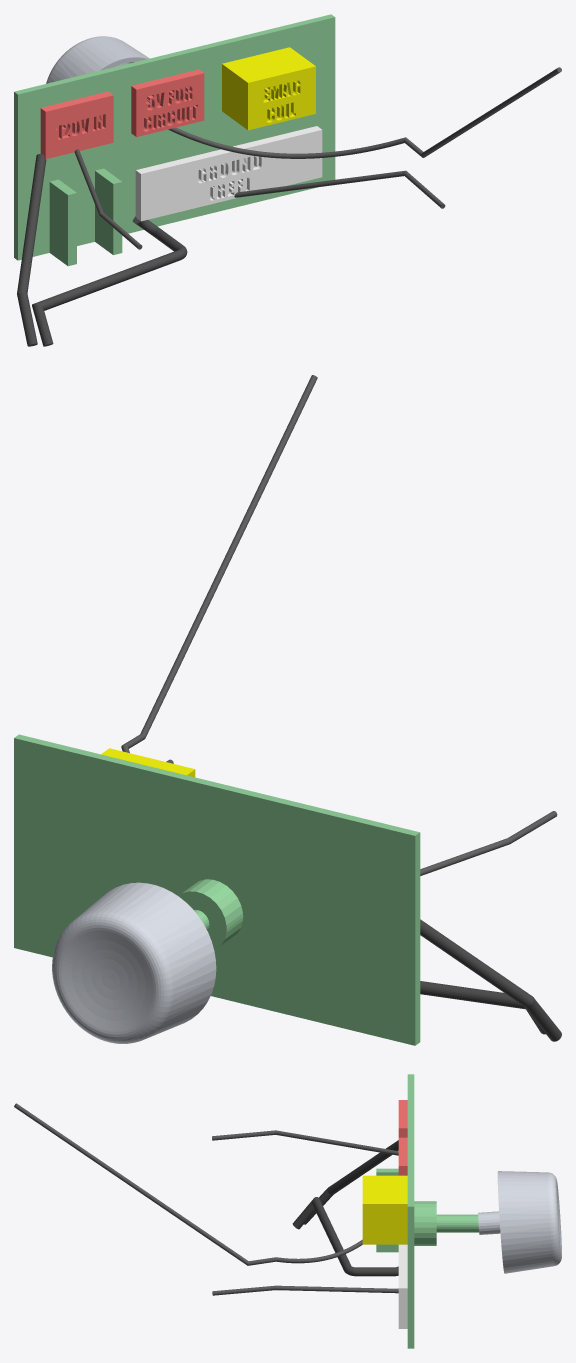
The model's file is Circuit_with_Wires(Final).fbx.
3 renders of one model, top to bottom at view 1: azimuth 30°, elevation 25°; view 2: azimuth 150°, elevation 25°; view 3: azimuth 270°, elevation 25°, orthographic. The views are drawn at different scales.
Parts seen in each view (by area): view 1: Shape_IndexedFaceSet.004, Shape_IndexedFaceSet.003, Shape_IndexedFaceSet, Shape_IndexedFaceSet.001, Shape_IndexedFaceSet.002, Shape_IndexedFaceSet.010, Shape_IndexedFaceSet.005, Shape_IndexedFaceSet.007, Shape_IndexedFaceSet.009, Shape_IndexedFaceSet.008, Shape_IndexedFaceSet.006; view 2: Shape_IndexedFaceSet.004, Shape_IndexedFaceSet.005, Shape_IndexedFaceSet.007, Shape_IndexedFaceSet.009, Shape_IndexedFaceSet.010, Shape_IndexedFaceSet.006, Shape_IndexedFaceSet; view 3: Shape_IndexedFaceSet.005, Shape_IndexedFaceSet.004, Shape_IndexedFaceSet, Shape_IndexedFaceSet.007, Shape_IndexedFaceSet.010, Shape_IndexedFaceSet.006, Shape_IndexedFaceSet.008, Shape_IndexedFaceSet.009, Shape_IndexedFaceSet.003, Shape_IndexedFaceSet.001, Shape_IndexedFaceSet.002.
Boxes of the visible parts, box(x1,y1,x2,y2) form: Shape_IndexedFaceSet.004: box(14, 14, 335, 266); Shape_IndexedFaceSet.003: box(135, 126, 322, 221); Shape_IndexedFaceSet: box(222, 47, 315, 130); Shape_IndexedFaceSet.001: box(131, 69, 204, 136); Shape_IndexedFaceSet.002: box(40, 91, 113, 158); Shape_IndexedFaceSet.010: box(32, 216, 187, 346); Shape_IndexedFaceSet.005: box(46, 36, 149, 83); Shape_IndexedFaceSet.007: box(168, 67, 561, 158); Shape_IndexedFaceSet.009: box(17, 154, 46, 346); Shape_IndexedFaceSet.008: box(231, 170, 445, 208); Shape_IndexedFaceSet.006: box(74, 149, 142, 249); Shape_IndexedFaceSet.004: box(14, 734, 420, 1045); Shape_IndexedFaceSet.005: box(52, 882, 216, 1043); Shape_IndexedFaceSet.007: box(121, 375, 317, 752); Shape_IndexedFaceSet.009: box(420, 919, 561, 1041); Shape_IndexedFaceSet.010: box(420, 981, 545, 1034); Shape_IndexedFaceSet.006: box(420, 811, 557, 875); Shape_IndexedFaceSet: box(101, 748, 195, 777); Shape_IndexedFaceSet.005: box(478, 1171, 561, 1273); Shape_IndexedFaceSet.004: box(376, 1074, 479, 1348); Shape_IndexedFaceSet: box(362, 1175, 407, 1244); Shape_IndexedFaceSet.007: box(14, 1103, 362, 1265); Shape_IndexedFaceSet.010: box(292, 1197, 398, 1276); Shape_IndexedFaceSet.006: box(212, 1130, 398, 1155); Shape_IndexedFaceSet.008: box(212, 1285, 398, 1295); Shape_IndexedFaceSet.009: box(304, 1140, 398, 1224); Shape_IndexedFaceSet.003: box(398, 1244, 407, 1328); Shape_IndexedFaceSet.001: box(398, 1137, 407, 1175); Shape_IndexedFaceSet.002: box(398, 1100, 407, 1137).
Size of the model in its own units: 10.31 by 8.45 by 15.53.
